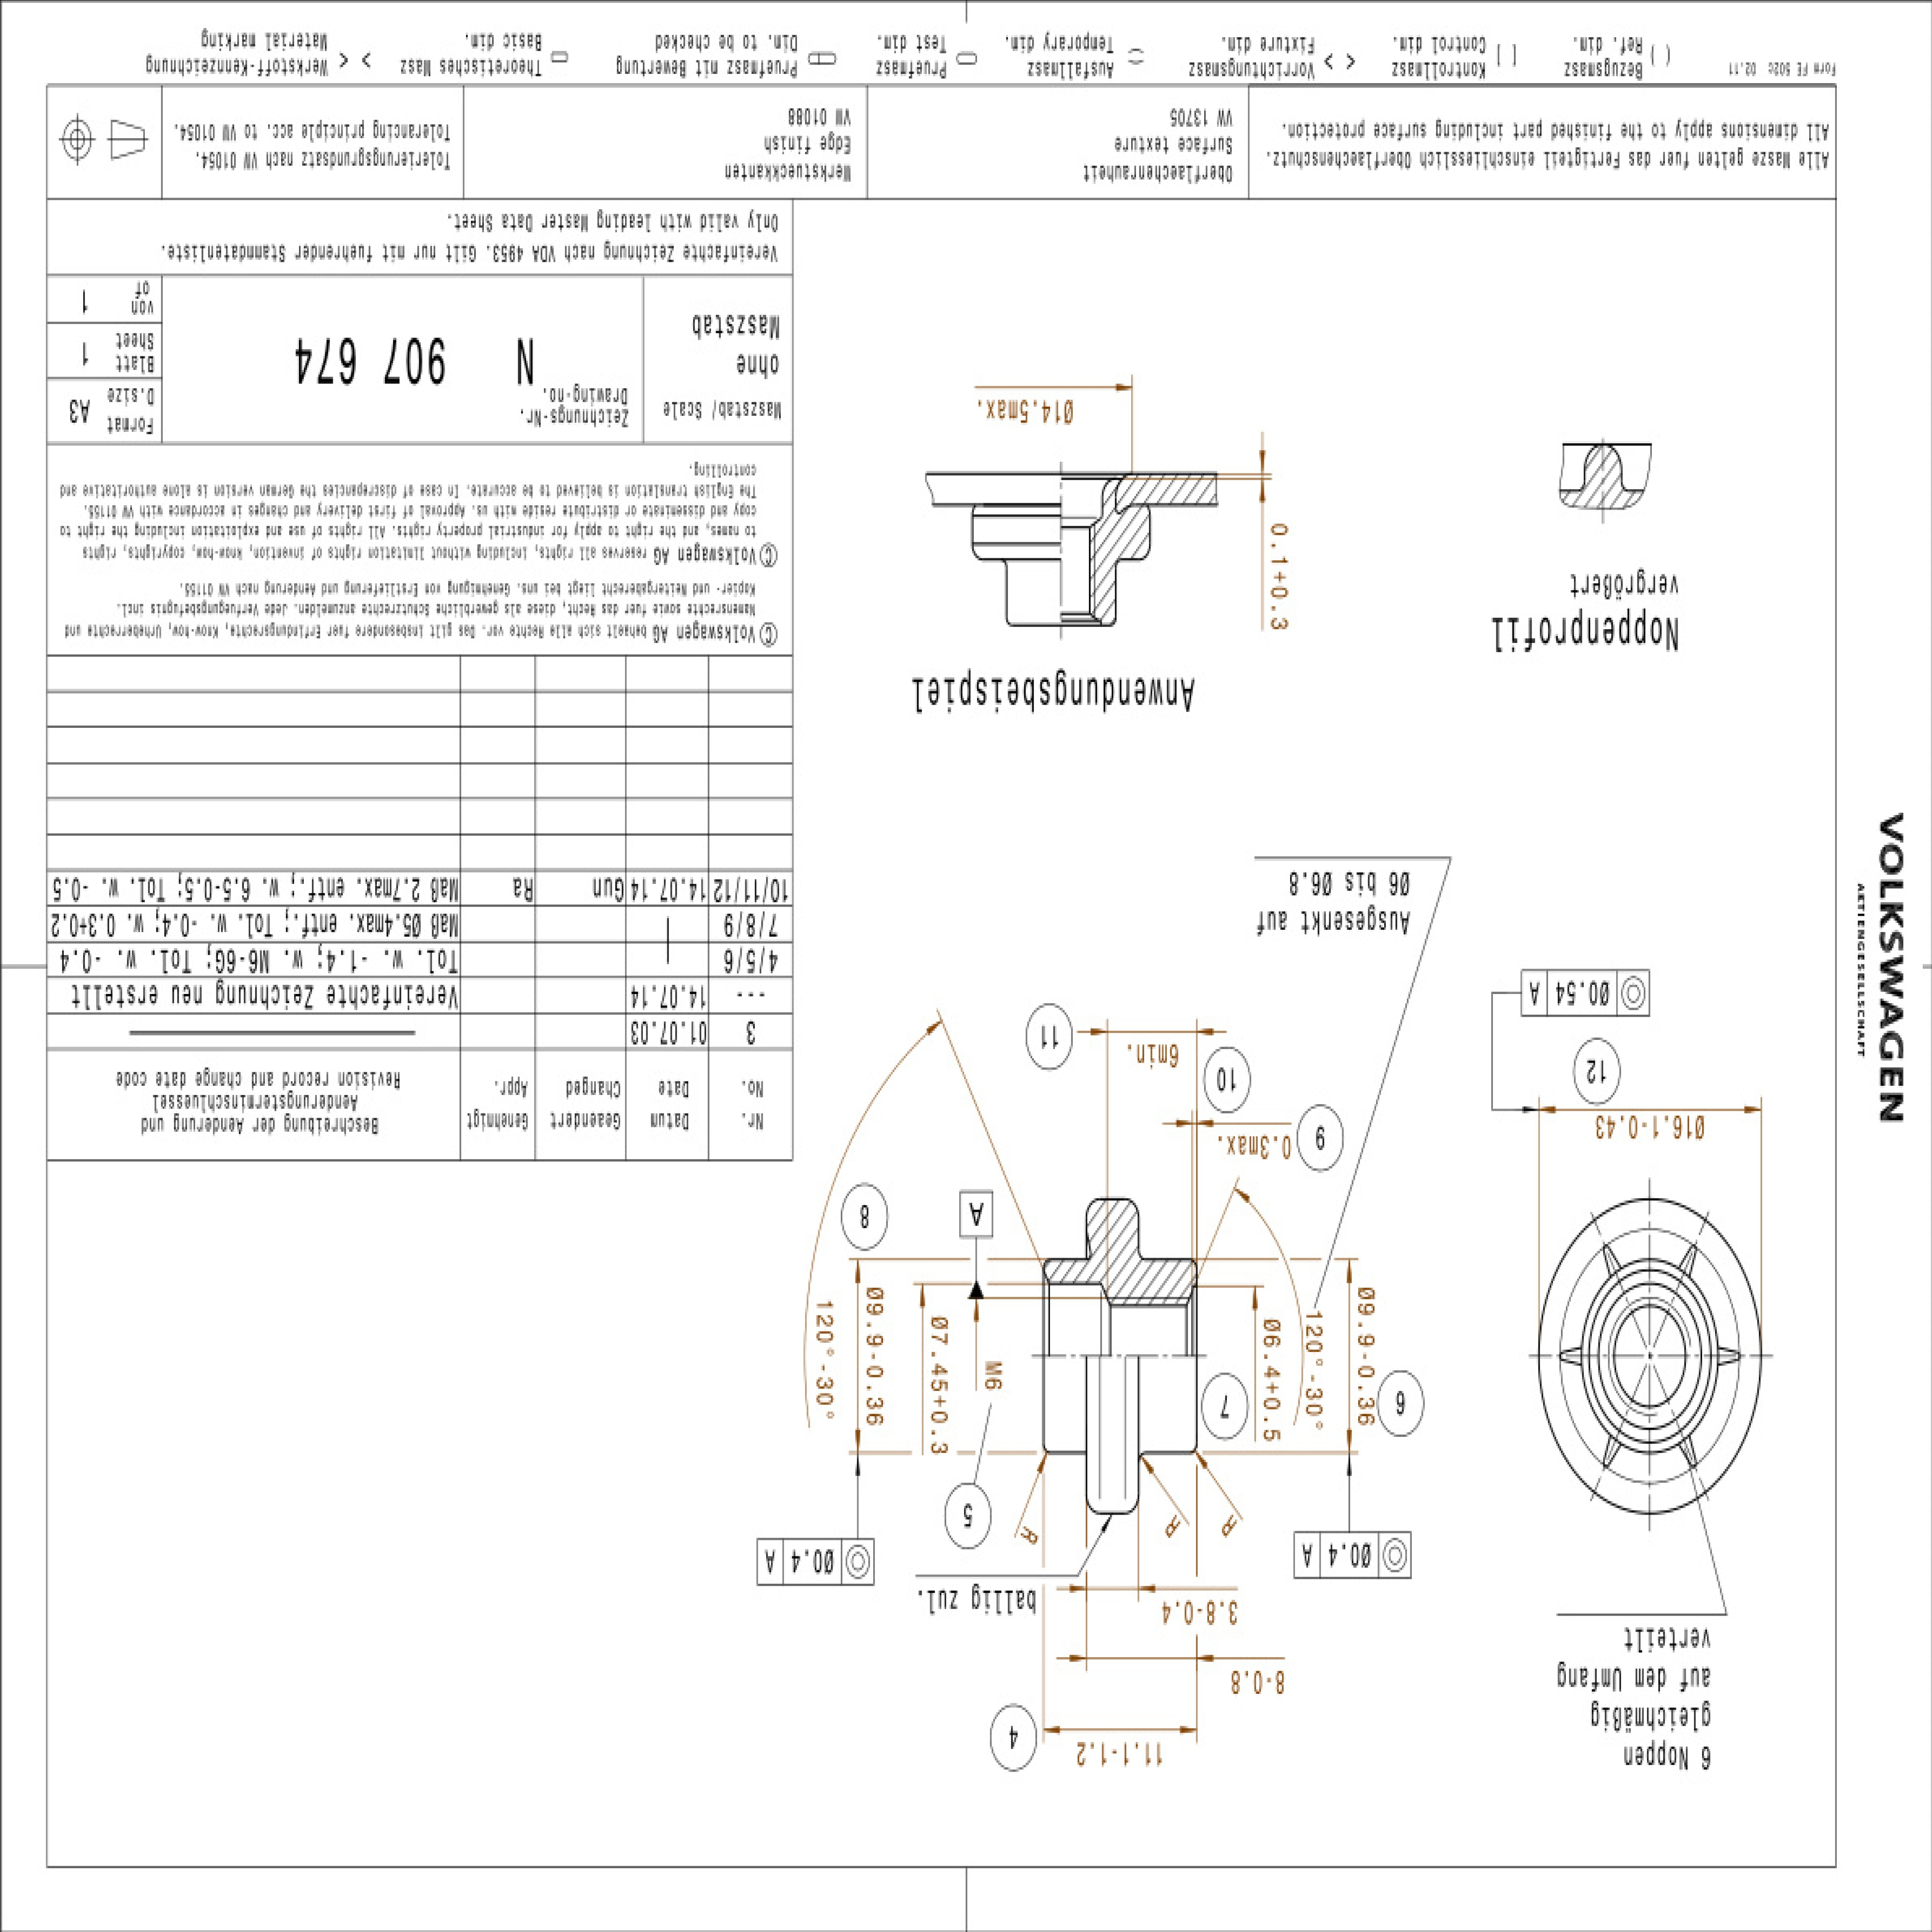InnerContour: (1580, 1256, 1721, 1458)
